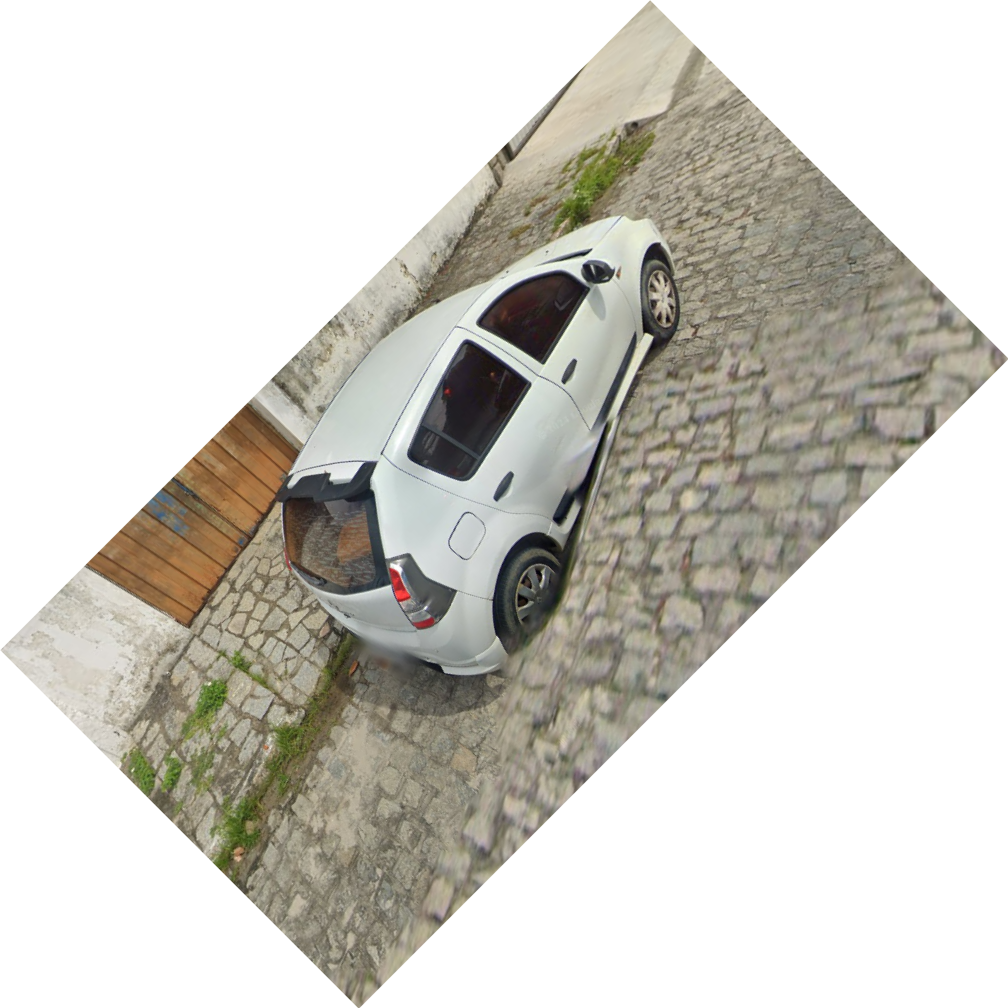car: (272, 211, 682, 677)
